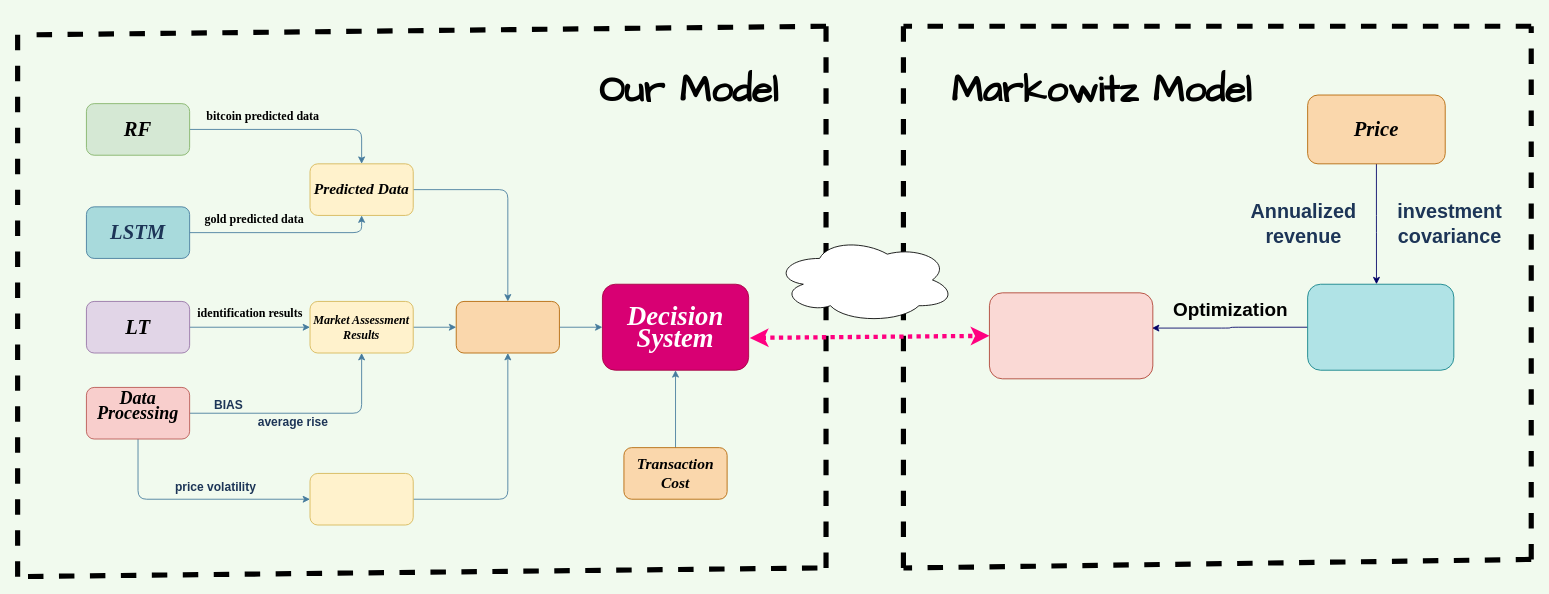
Some shapes in this 1549 by 594 pixel diagram are drawn without their labels. The centre of each missing label's shape, as x and y in pixels:
"Contrast" goes at point (864, 279).
"Decision Evaluation" goes at point (507, 327).
"Decision with Max Sharpe" goes at point (1071, 335).
"Monte Carlo method" goes at point (1380, 326).
"Risk Indicator" goes at point (361, 499).
